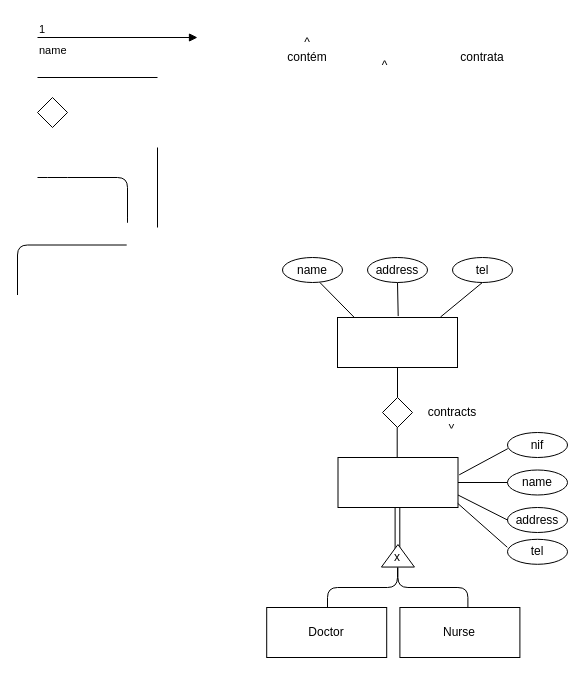
Image size: 585x675. Some labels were removed from this diagram. Each missing label, with the centre of its shape:
"Clinic" goes at pixel 397 342.
"Medical Professional" goes at pixel 397 482.
